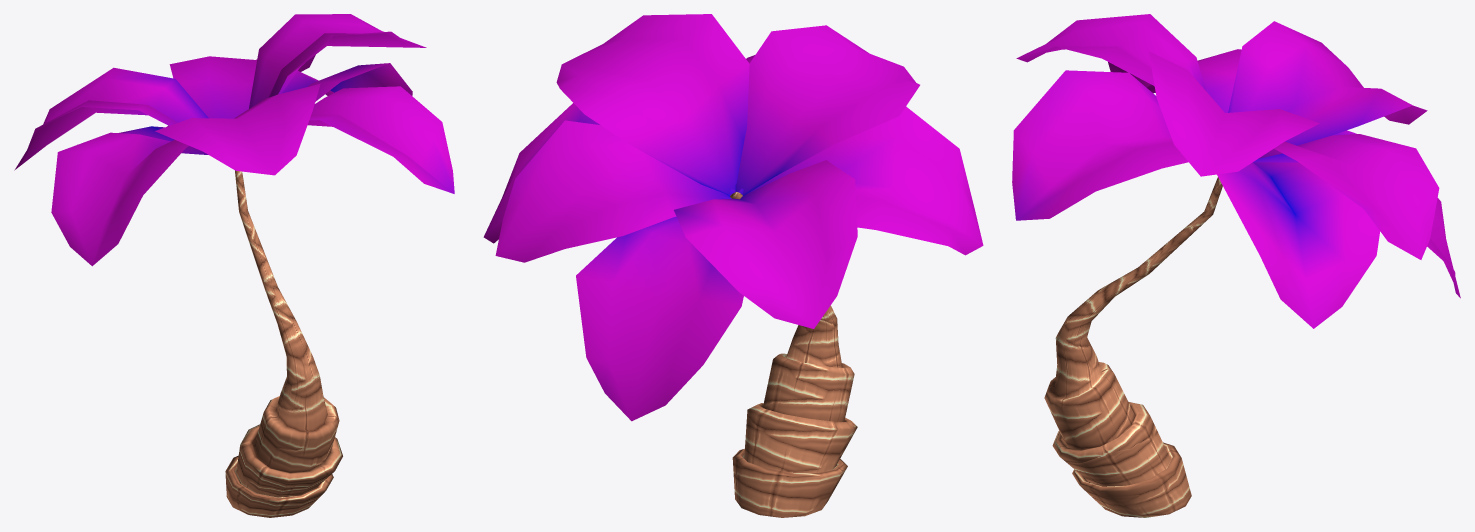
The model's file is Tree_Palm_05.fbx.
3 renders of one model, left to right at view 1: azimuth 30°, elevation 25°; view 2: azimuth 150°, elevation 25°; view 3: azimuth 270°, elevation 25°, orthographic. The views are drawn at different scales.
Parts seen in each view (by area): view 1: Palm_05; view 2: Palm_05; view 3: Palm_05.
Boxes of the visible parts, x1,y1,x2,y2 form: Palm_05: [14, 14, 454, 517]; Palm_05: [483, 14, 983, 517]; Palm_05: [1012, 14, 1460, 517].
Size of the model in its own units: 355 by 387 by 326.
